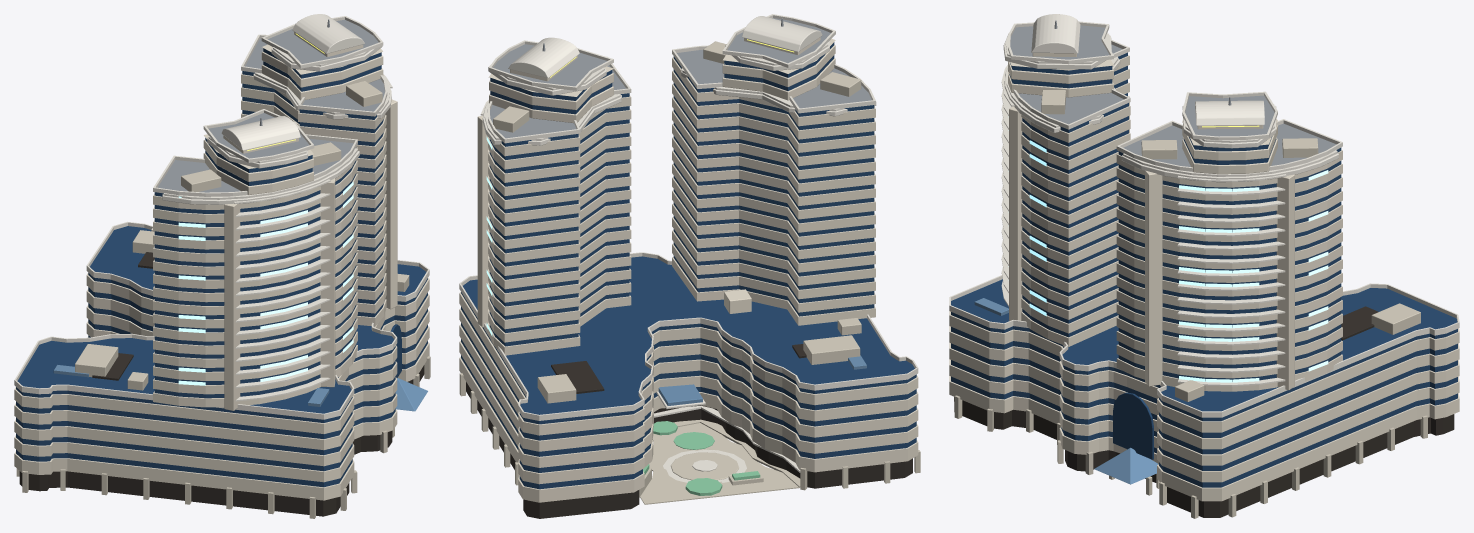
File: towers-at-rincon.glb
3 views of the same model, side by side, from view 1: azimuth 30°, elevation 25°; view 2: azimuth 150°, elevation 25°; view 3: azimuth 270°, elevation 25° (orthographic). The views are drawn at different scales.
Visible parts, largest first — view 1: podium_glass_4, podium_band_4, podium_band_3, podium_band_2, podium_shop, podium_band_1, podium_band_0, podium_parapet, west_pier_-1, podium_glass_3, west_pier_1, podium_glass_2 (+74 smaller); view 2: podium_glass_4, podium_band_4, podium_band_2, podium_band_3, podium_band_1, podium_shop, podium_band_0, court_floor, podium_parapet, podium_glass_3, podium_glass_1, podium_glass_2 (+97 smaller); view 3: podium_glass_4, podium_band_4, podium_band_3, podium_shop, podium_band_0, podium_band_2, podium_band_1, podium_parapet, east_pier_1, east_pier_-1, podium_glass_3, west_pier_1 (+76 smaller).
Part boxes in pixels (x1,y1,x2,y2): podium_glass_4: (16, 226, 427, 422); podium_band_4: (14, 273, 429, 433); podium_band_3: (14, 289, 429, 450); podium_band_2: (14, 305, 429, 466); podium_shop: (19, 365, 424, 516); podium_band_1: (14, 321, 429, 482); podium_band_0: (14, 337, 429, 498); podium_parapet: (14, 221, 429, 419); west_pier_-1: (224, 203, 240, 410); podium_glass_3: (16, 287, 427, 439); west_pier_1: (320, 178, 335, 387); podium_glass_2: (16, 303, 427, 455); podium_glass_4: (461, 256, 916, 424); podium_band_4: (459, 292, 918, 435); podium_band_2: (459, 324, 918, 467); podium_band_3: (459, 308, 918, 451); podium_band_1: (459, 340, 918, 484); podium_shop: (466, 382, 912, 518); podium_band_0: (459, 357, 918, 500); court_floor: (640, 423, 799, 504); podium_parapet: (459, 252, 918, 420); podium_glass_3: (461, 306, 916, 440); podium_glass_1: (461, 339, 916, 472); podium_glass_2: (461, 323, 916, 456); podium_glass_4: (951, 279, 1457, 421); podium_band_4: (949, 311, 1459, 432); podium_band_3: (949, 326, 1459, 449); podium_shop: (954, 397, 1454, 517); podium_band_0: (949, 376, 1459, 498); podium_band_2: (949, 342, 1459, 465); podium_band_1: (949, 359, 1459, 482); podium_parapet: (949, 275, 1459, 417); east_pier_1: (1145, 170, 1162, 386); east_pier_-1: (1276, 174, 1294, 390); podium_glass_3: (951, 327, 1457, 437); west_pier_1: (1009, 106, 1022, 320).
Size of the model in its own units: 109 by 89 by 109.
